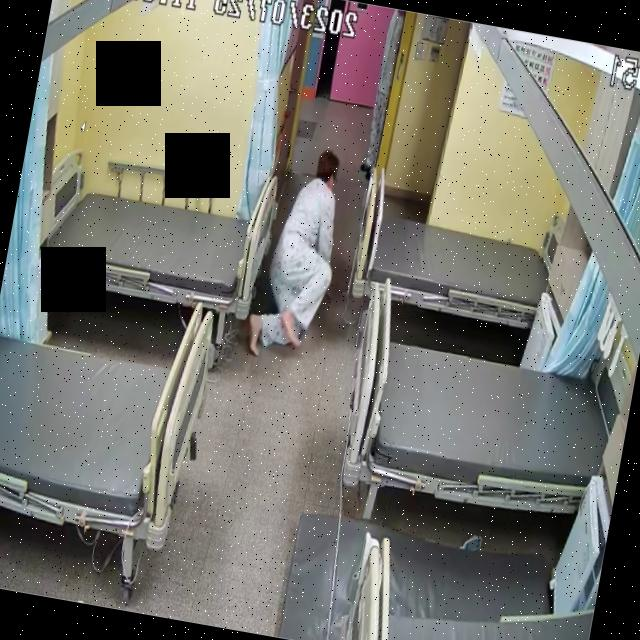bed: (0, 268, 220, 547), (336, 325, 621, 521), (26, 163, 278, 321), (351, 199, 554, 328)
fall: (239, 141, 364, 372)
patient: (239, 138, 364, 370)
